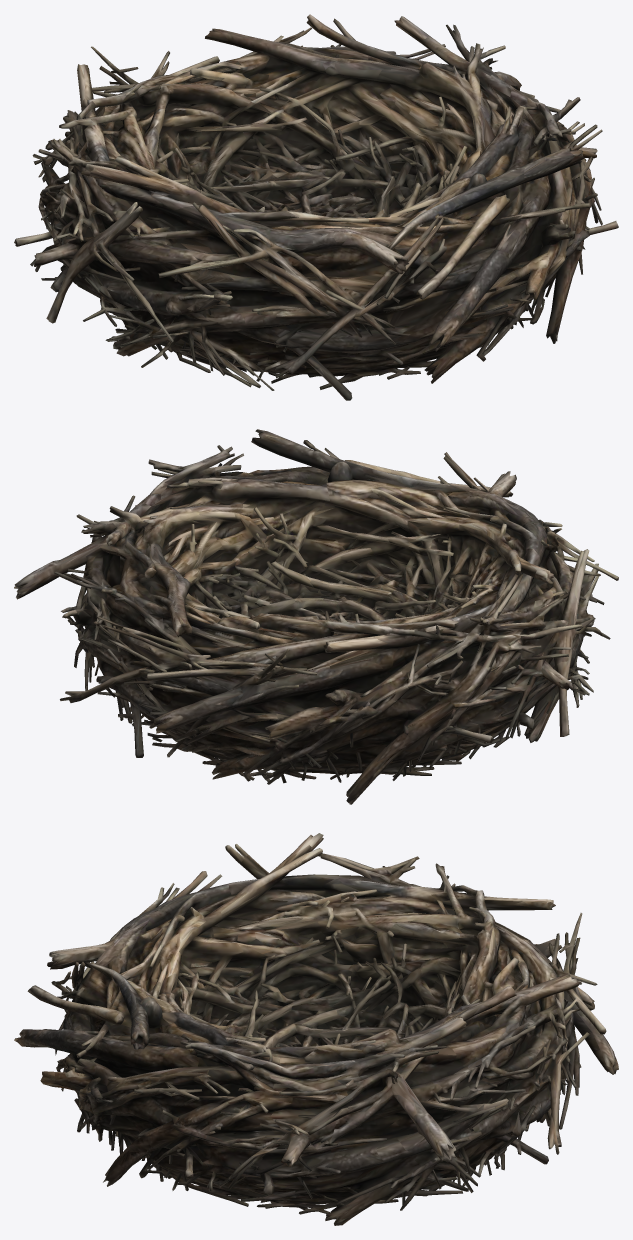
The model's file is 08_nest.glb.
3 renders of one model, top to bottom at view 1: azimuth 30°, elevation 25°; view 2: azimuth 150°, elevation 25°; view 3: azimuth 270°, elevation 25°, orthographic. The views are drawn at different scales.
Visible parts, largest first — view 1: tripo_08_nest; view 2: tripo_08_nest; view 3: tripo_08_nest.
Boxes of the visible parts, bbox=[...] form: tripo_08_nest: bbox=[14, 14, 618, 400]; tripo_08_nest: bbox=[14, 429, 618, 804]; tripo_08_nest: bbox=[14, 833, 618, 1225].
Size of the model in its own units: 2.93 by 1 by 2.92.
Materials: 1 (1 with a texture image).
